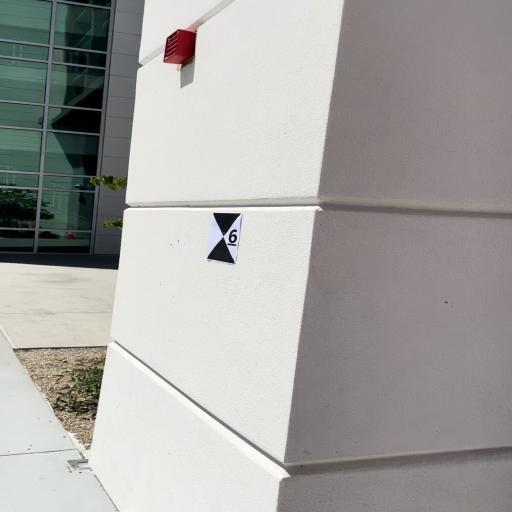target6: (205, 215, 242, 263)
